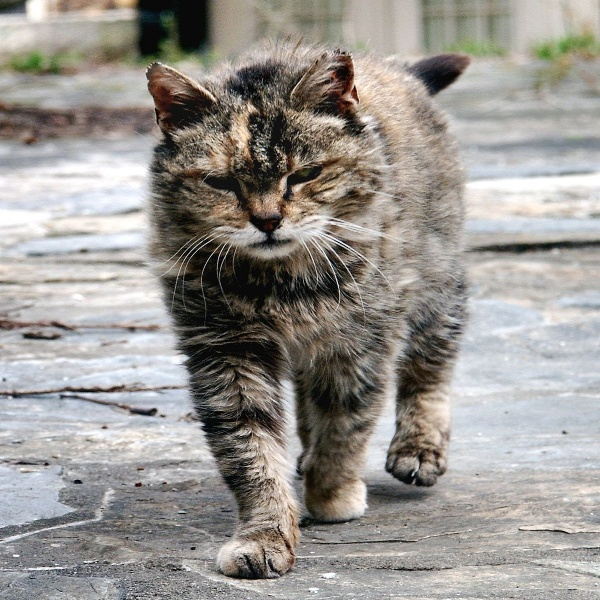cat: (123, 41, 482, 584)
